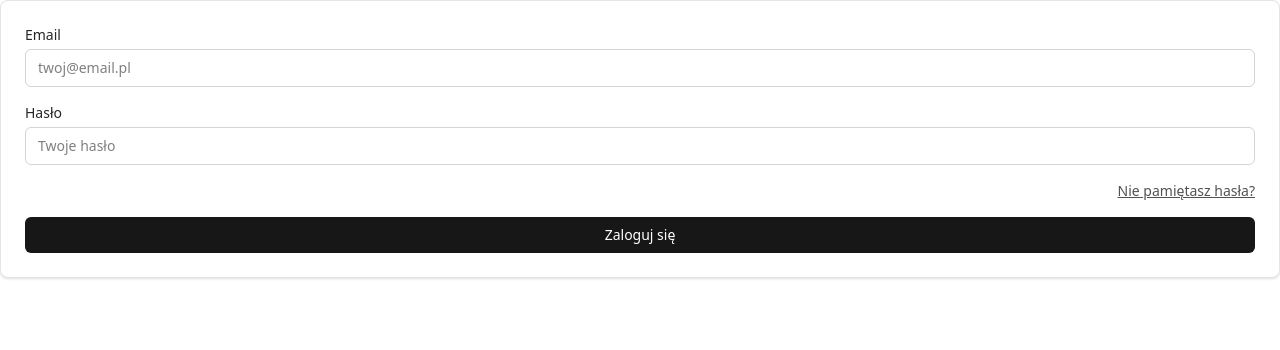
Test: LoginForm › blokuje submit i pokazuje błąd dla niepoprawnego formatu email
Step 1. Type "not-an-email" into the field labelled "Email" → coordinates (640, 68), box left=25, top=49, right=1255, bottom=87
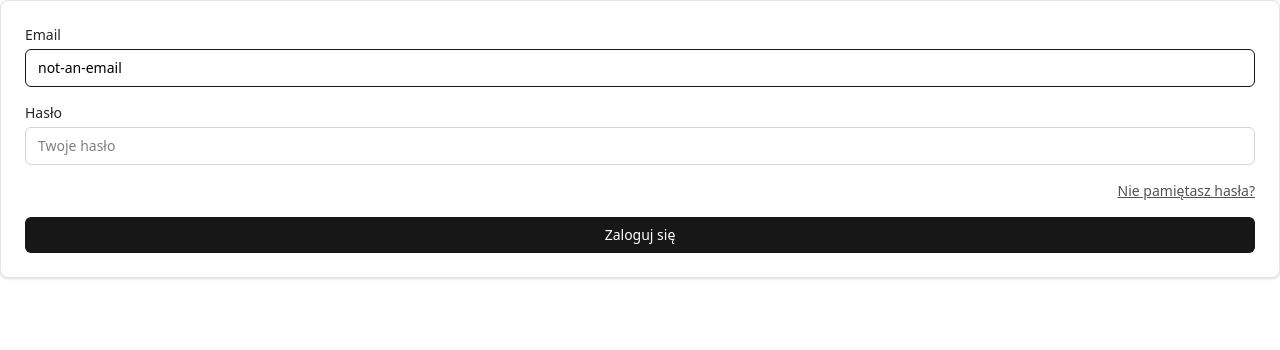
Step 2. Type "pass1234" into the password field labelled "Hasło" → coordinates (640, 146), box left=25, top=127, right=1255, bottom=165
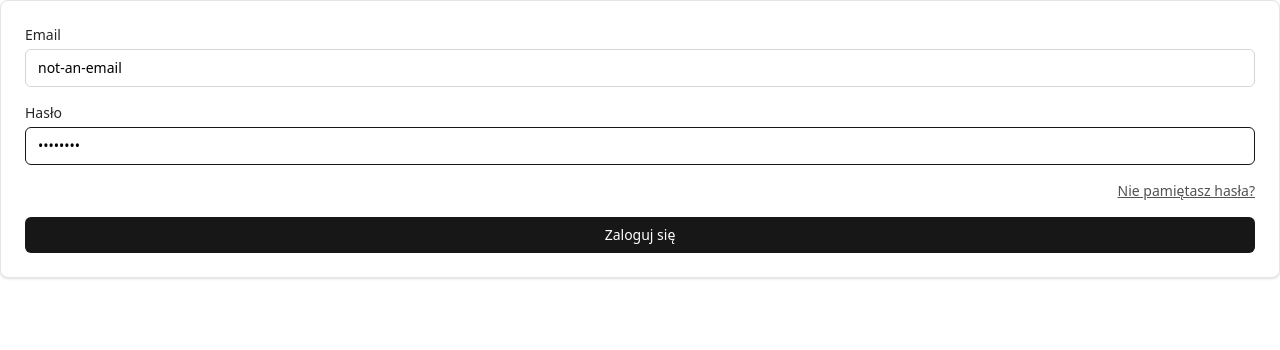
Step 3. Click the button "Zaloguj się" → coordinates (640, 235), box left=25, top=217, right=1255, bottom=253
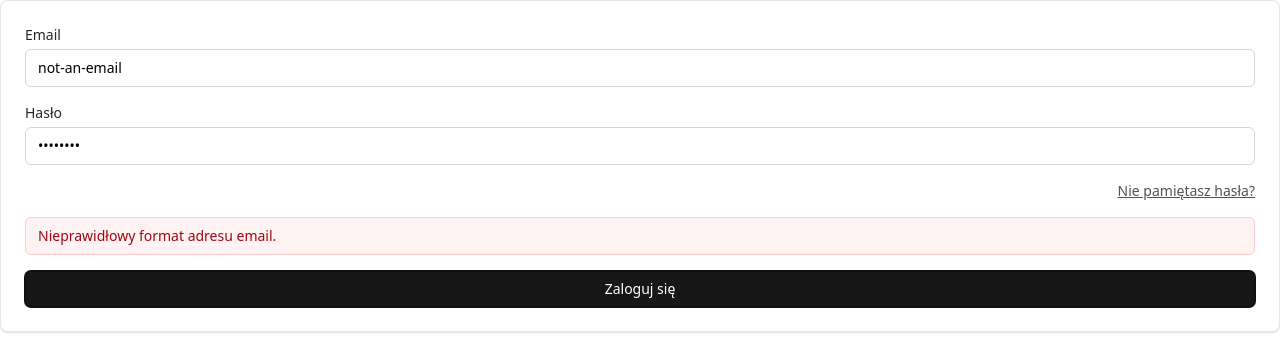
Check: the message reads "Nieprawidłowy format adresu email.", box left=38, top=226, right=276, bottom=245
